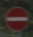No entry: (5, 6, 27, 32)
